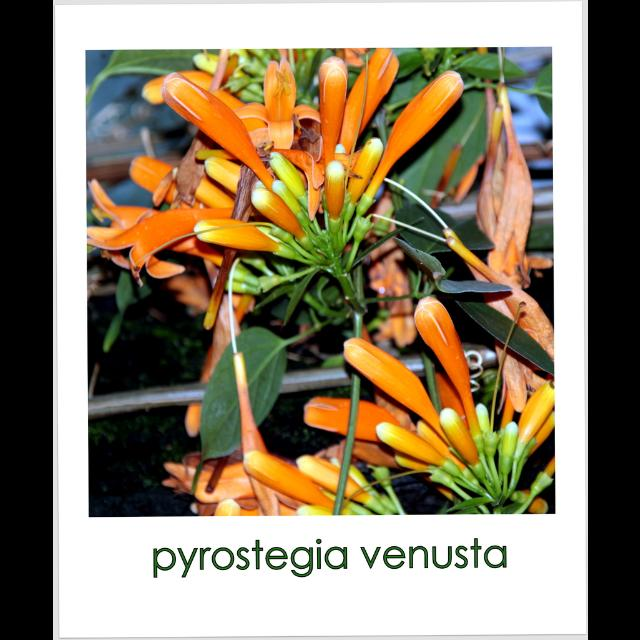Flower: (84, 48, 464, 518), (304, 294, 552, 496)
